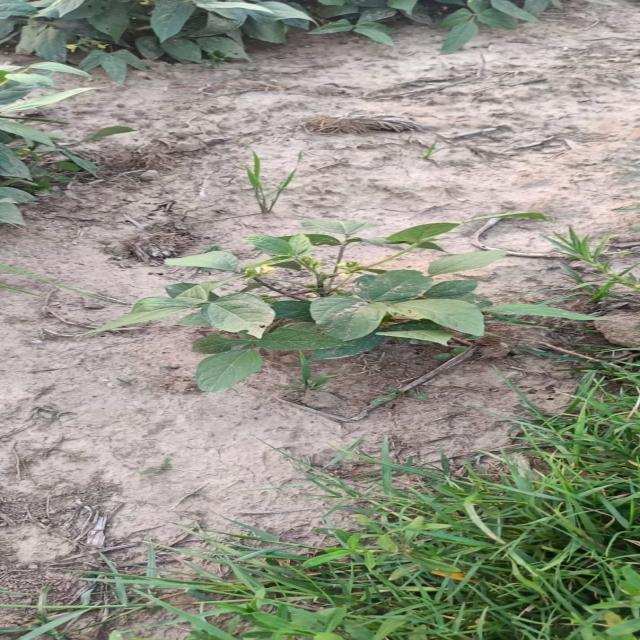plant: (83, 220, 604, 392)
